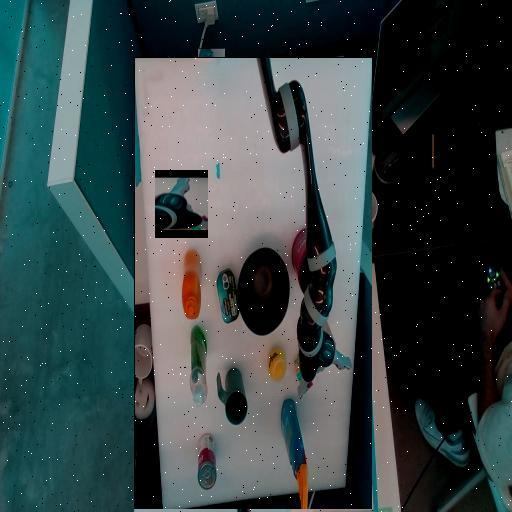bowl: (218, 232, 268, 318)
cleanser: (300, 162, 316, 241)
coffee_can: (176, 267, 214, 338)
jaco: (155, 178, 208, 230)
meat_can: (267, 261, 289, 283)
mug: (258, 156, 289, 186)
mustard_bottle: (306, 249, 324, 317)
rubik: (190, 185, 212, 207)
soup_can: (290, 97, 308, 115)
tennis_ball: (221, 195, 238, 212)
windex: (198, 49, 225, 167)
wooden_block: (170, 219, 195, 244)
workspace: (134, 58, 372, 509)
